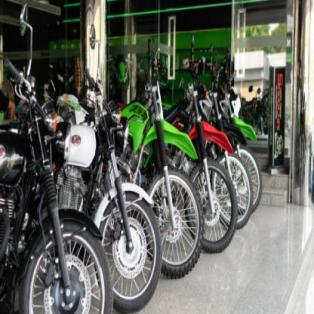Motocicleta: (0, 0, 117, 313)
